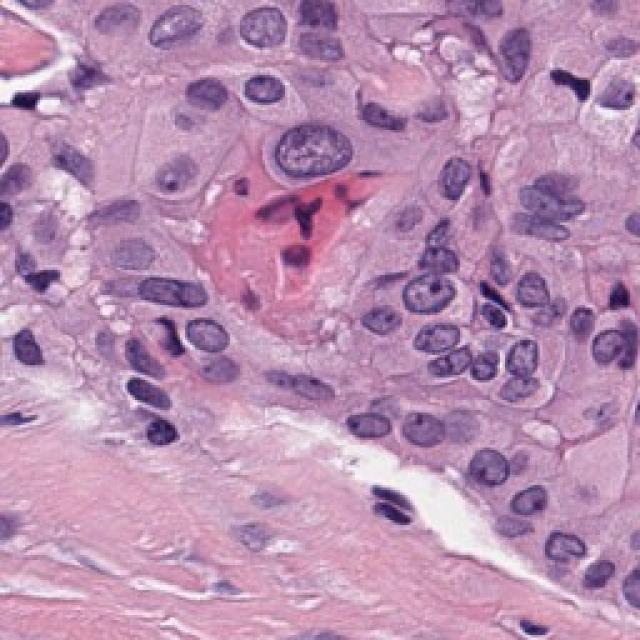abnormal: (265, 107, 382, 218), (98, 250, 232, 325), (111, 0, 221, 78), (130, 133, 223, 222), (230, 45, 320, 135), (398, 245, 477, 335), (384, 388, 459, 475), (174, 52, 249, 138), (220, 0, 295, 75), (458, 427, 517, 517), (493, 323, 557, 400), (586, 58, 640, 143), (585, 314, 640, 394), (508, 467, 570, 537)
